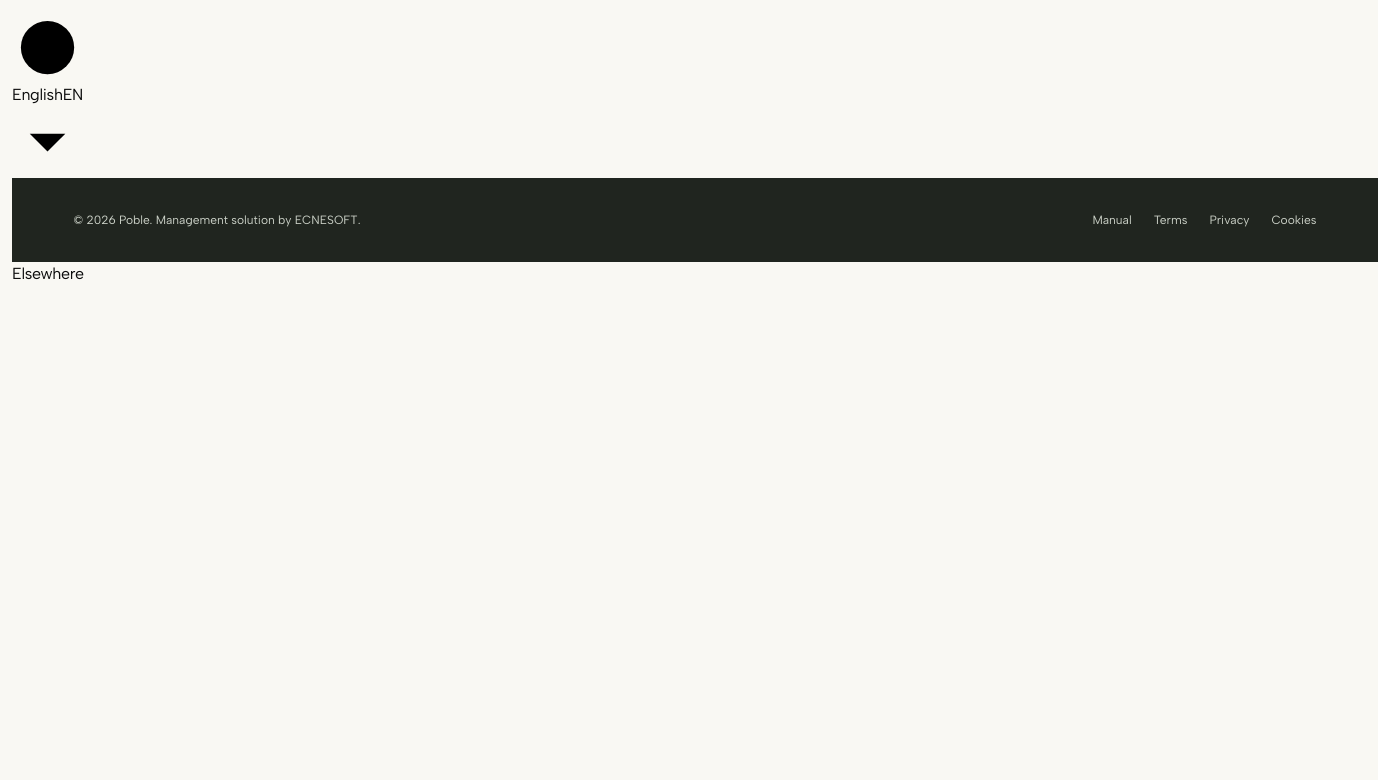
it: LanguageSelector › closes when focus tabs away
Click the button with aria-label "Language: English": [48, 95] box [12,12,83,178]
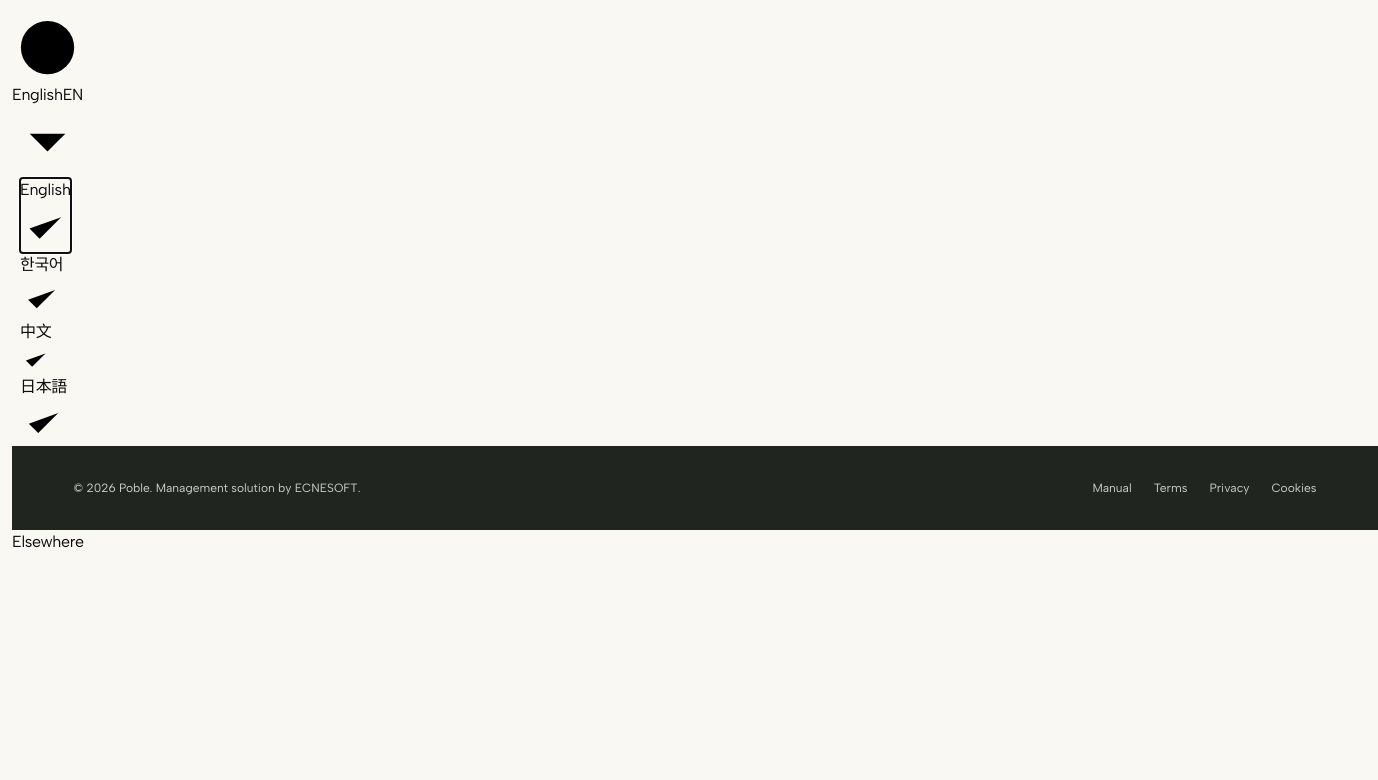
Press Tab
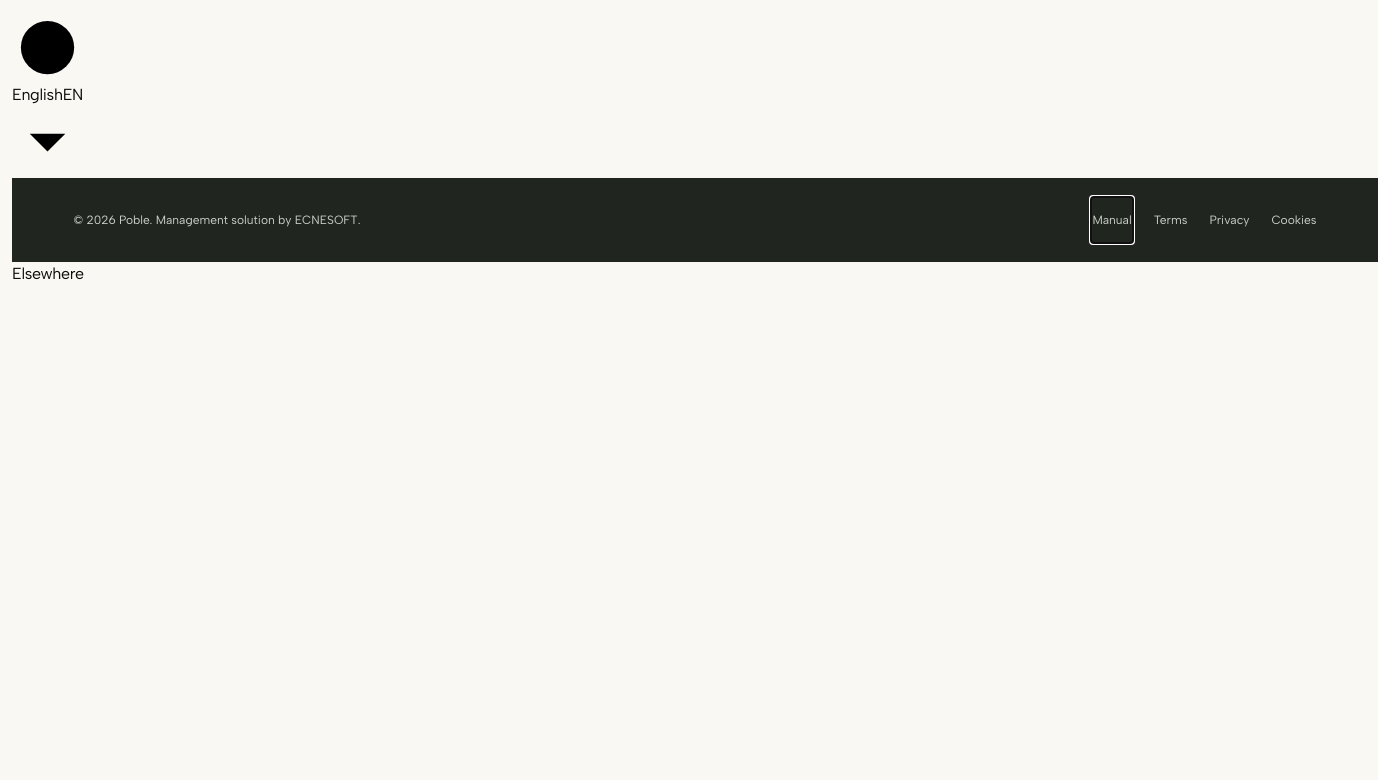
Expected: the menu is gone
